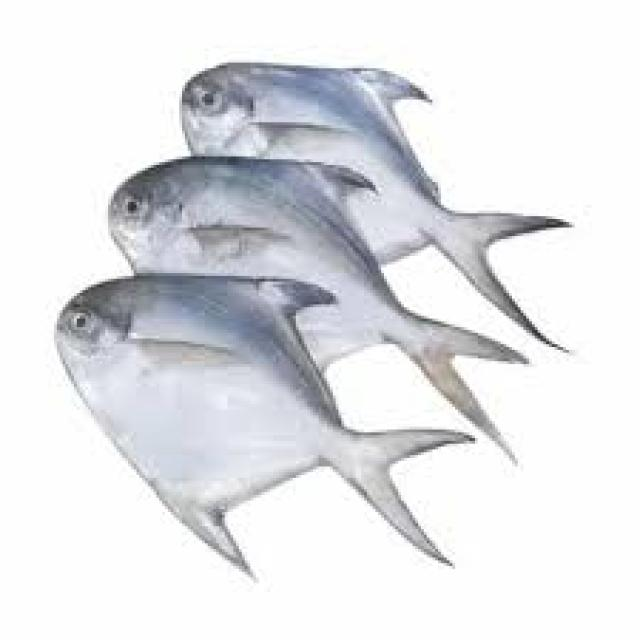pomfred: (52, 275, 476, 574)
